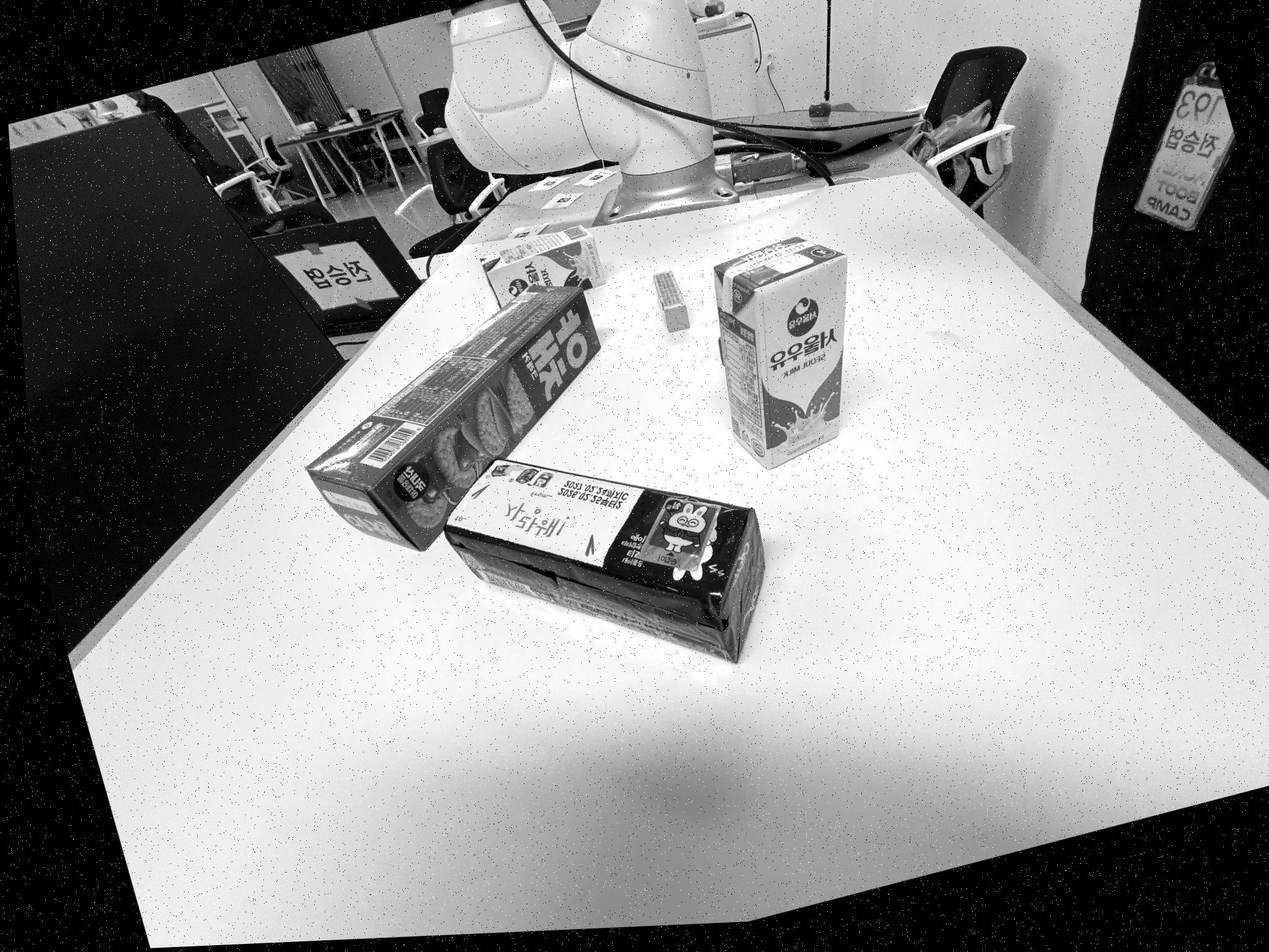cracker_ace: (444, 459, 765, 661)
cracker_vege: (307, 287, 600, 550)
gum_yellow: (654, 272, 689, 331)
milk_blue: (481, 226, 605, 307)
milk_green: (715, 237, 847, 468)
